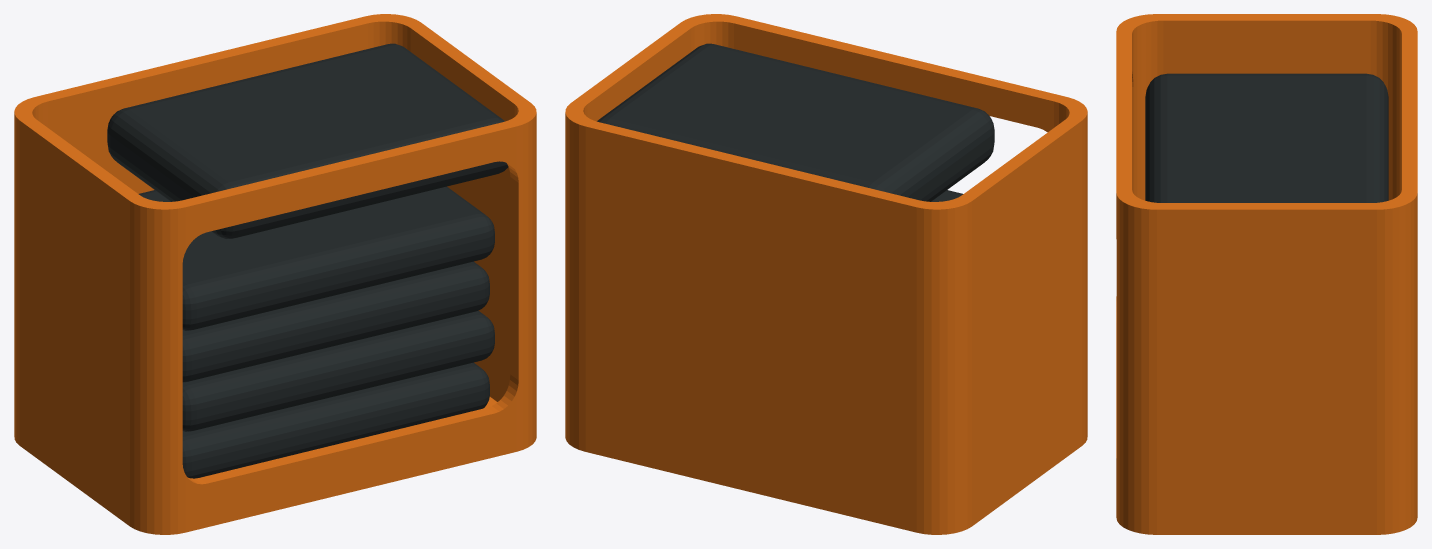
The model's file is orange-shelf-cubby.glb.
3 renders of one model, left to right at view 1: azimuth 30°, elevation 25°; view 2: azimuth 150°, elevation 25°; view 3: azimuth 270°, elevation 25°, orthographic.
Visible parts, largest first — view 1: orange-shelf-cubby; view 2: orange-shelf-cubby; view 3: orange-shelf-cubby.
Part boxes in pixels (bbox=[...]): orange-shelf-cubby: bbox=[14, 14, 536, 534]; orange-shelf-cubby: bbox=[565, 14, 1087, 534]; orange-shelf-cubby: bbox=[1116, 14, 1417, 534].
Size of the model in its own units: 0.4 by 0.3099 by 0.26.
